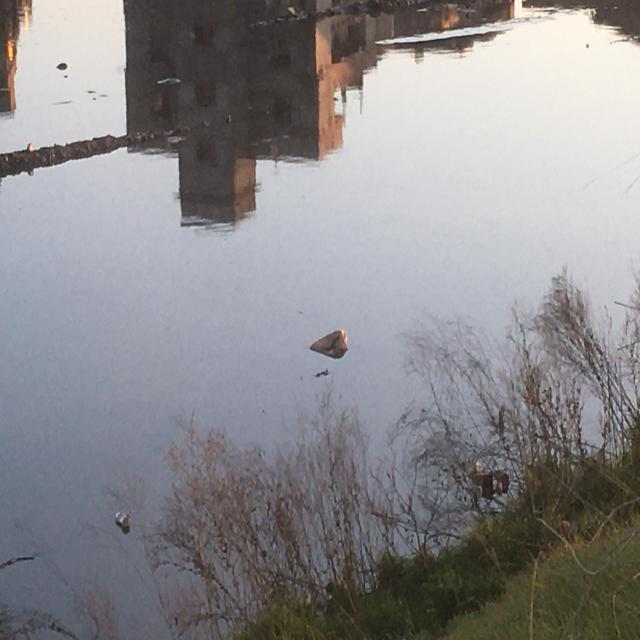Plastic bag: (308, 324, 351, 364)
Plastic bottle: (111, 505, 133, 536)
